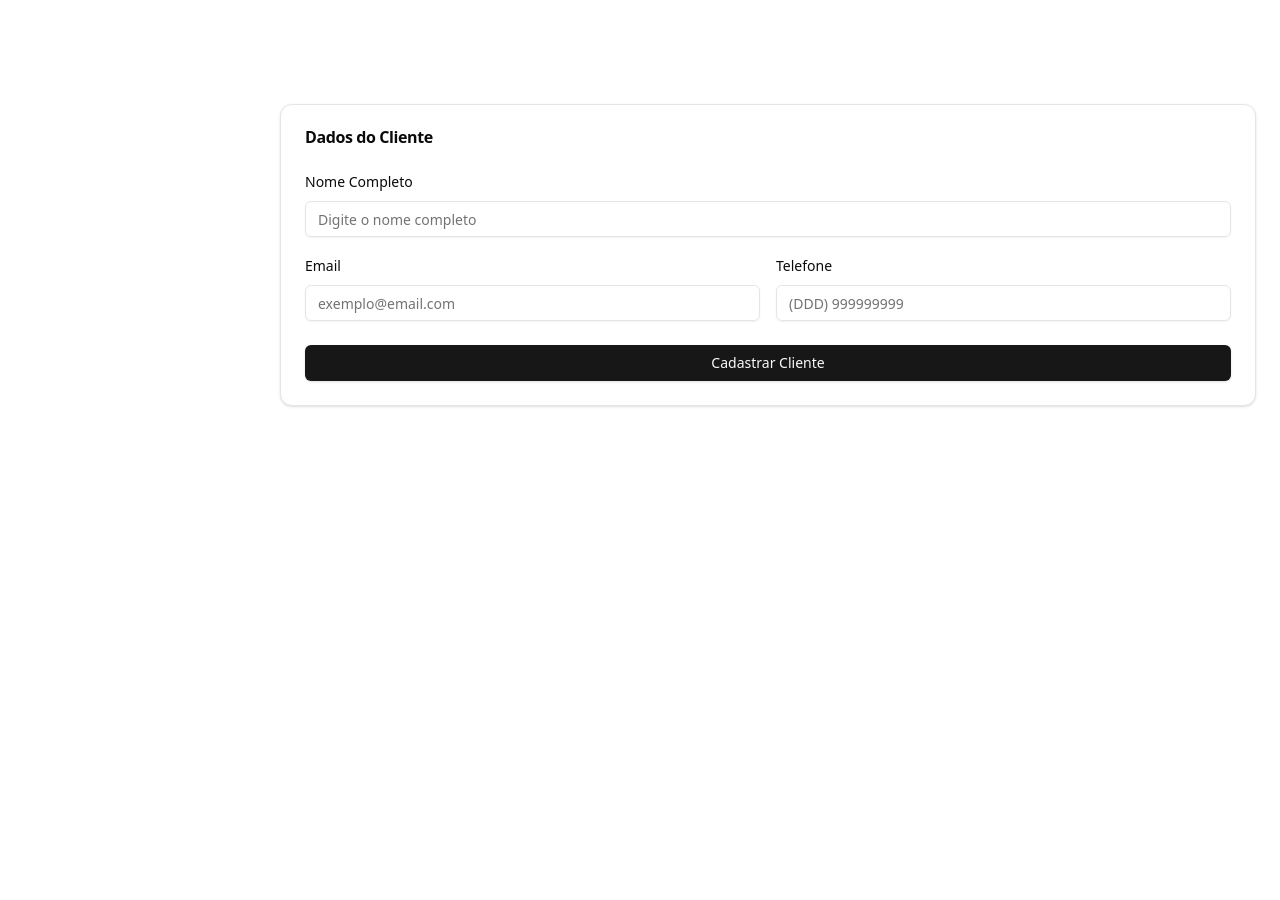
Scenario: FormClientRegister › mostra erro se telefone não for preenchido
Type "Maria" into the field labelled "Nome Completo".
click(768, 219); type("Maria")  # box [305,201,1231,237]
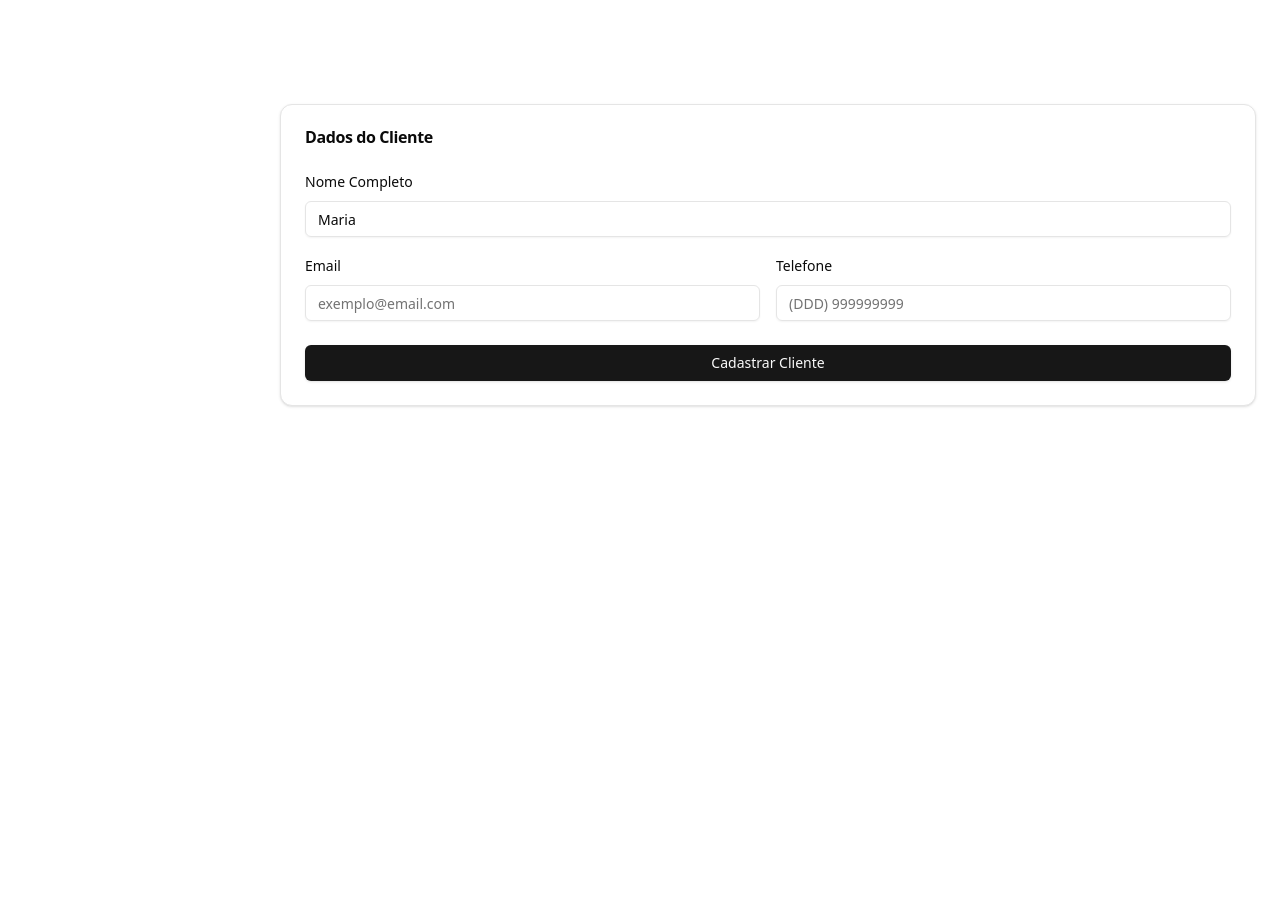
Click the button "Cadastrar Cliente".
click(768, 363)  # box [305,345,1231,381]
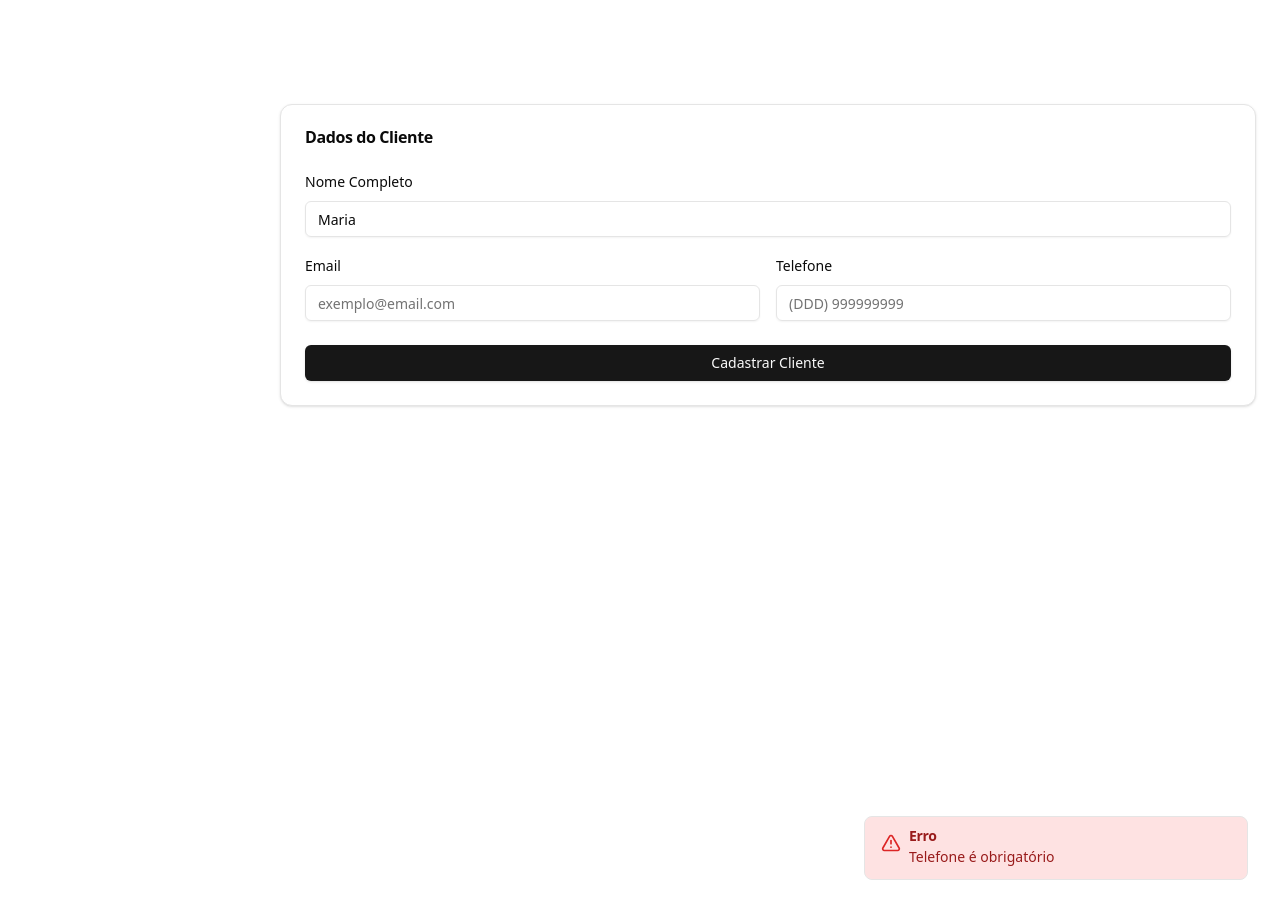
Expected: the text "Telefone é obrigatório" is shown, [909,847,1054,866]
